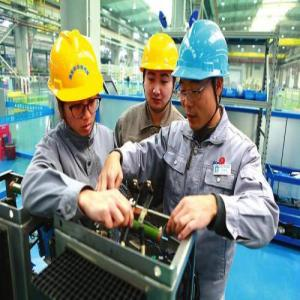blue: (174, 18, 232, 128)
yellow: (51, 29, 103, 137), (140, 32, 178, 111)
